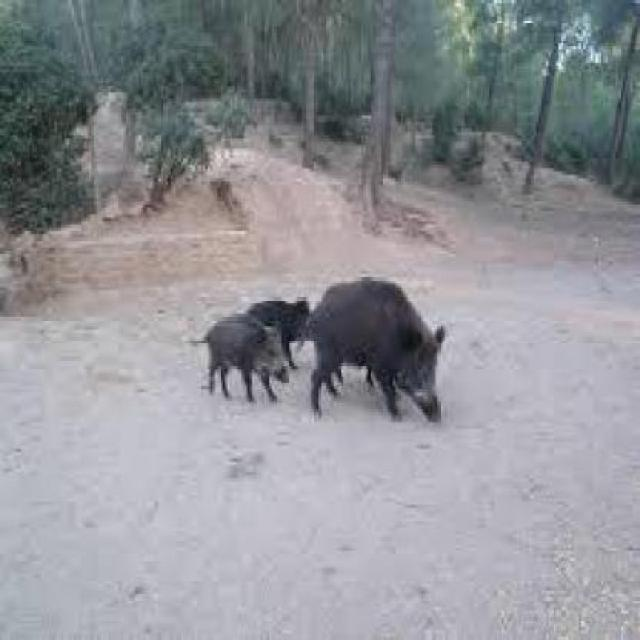wildboar: (303, 270, 454, 427), (190, 312, 292, 411), (244, 292, 322, 357)
